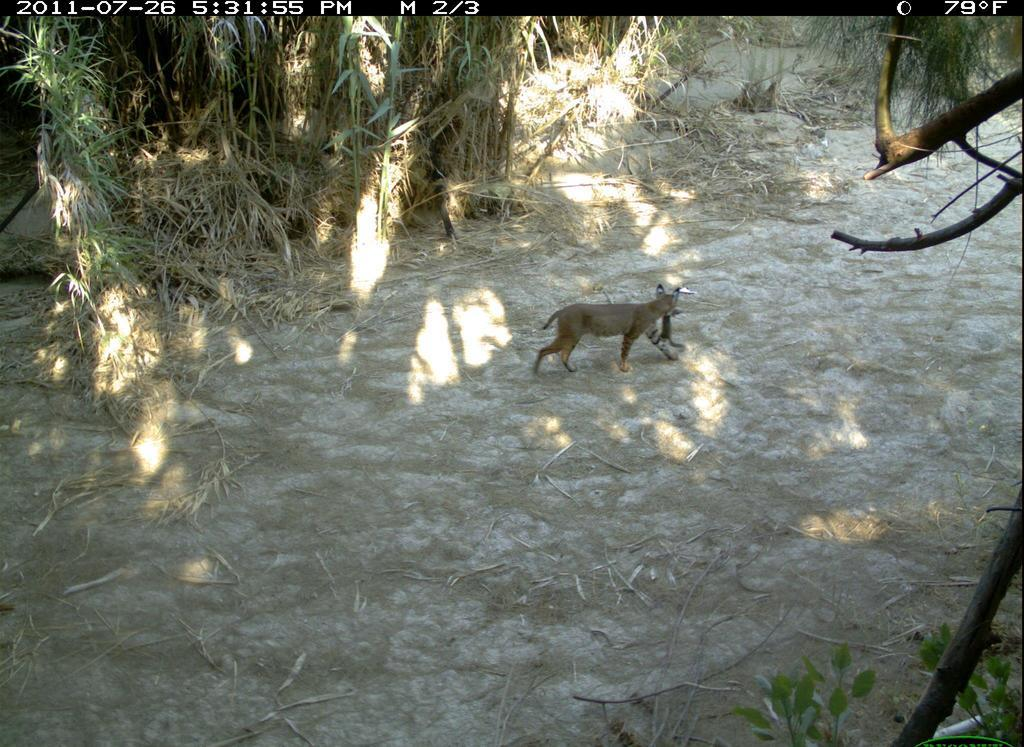bobcat: (521, 285, 690, 385)
